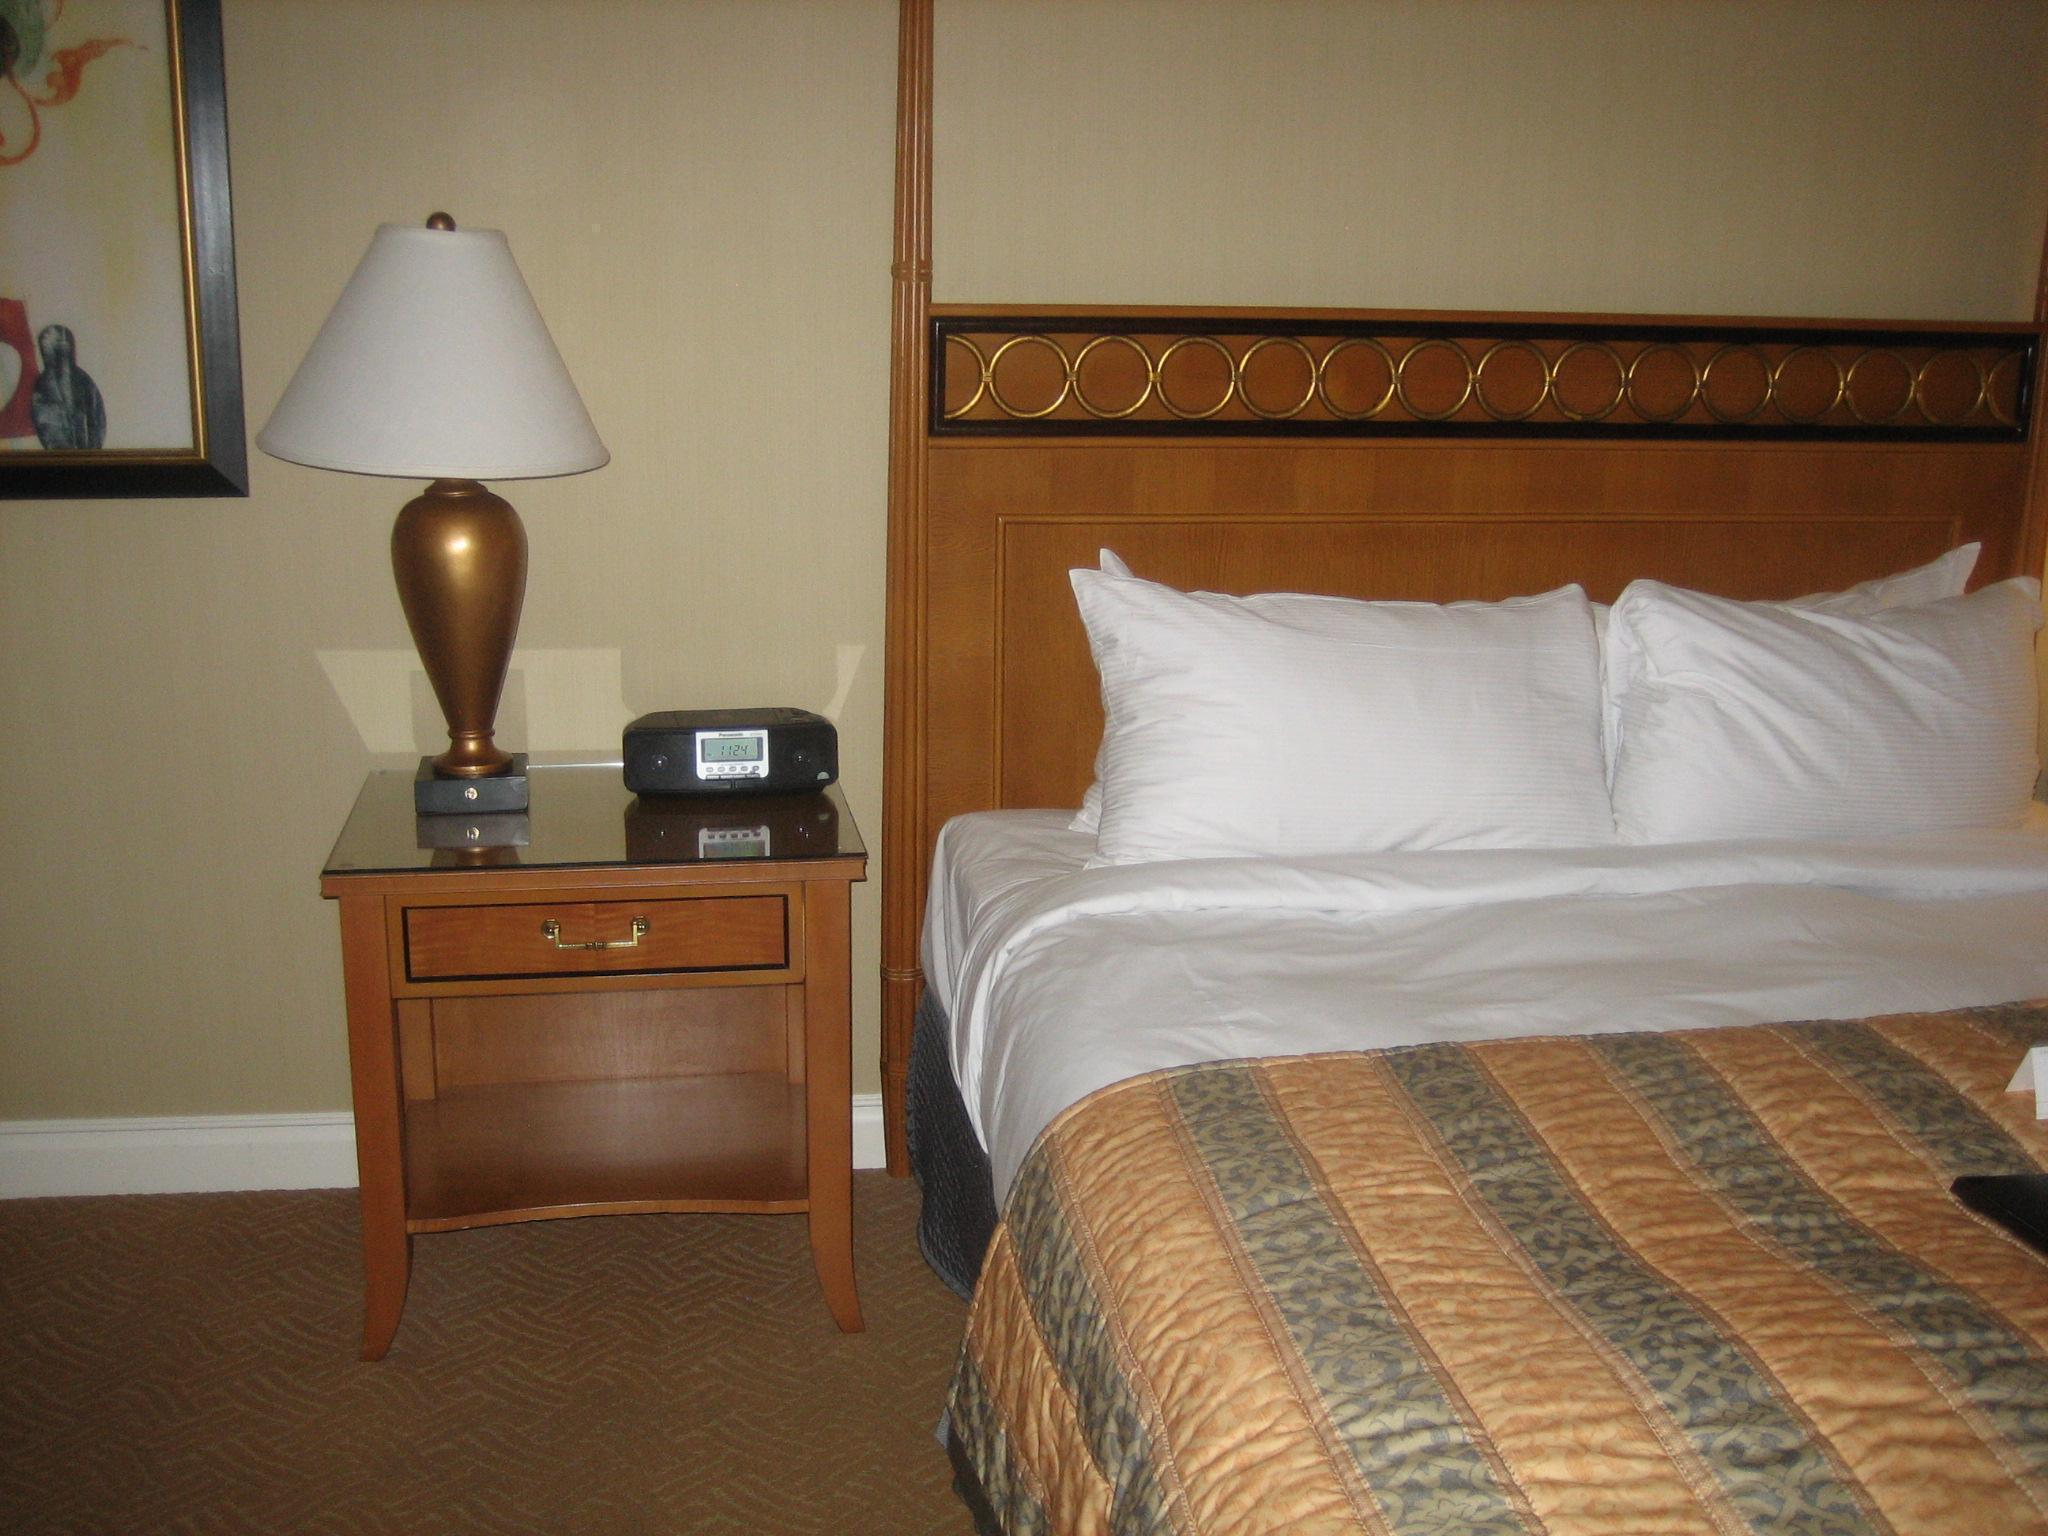Cama: (897, 307, 2040, 1525)
